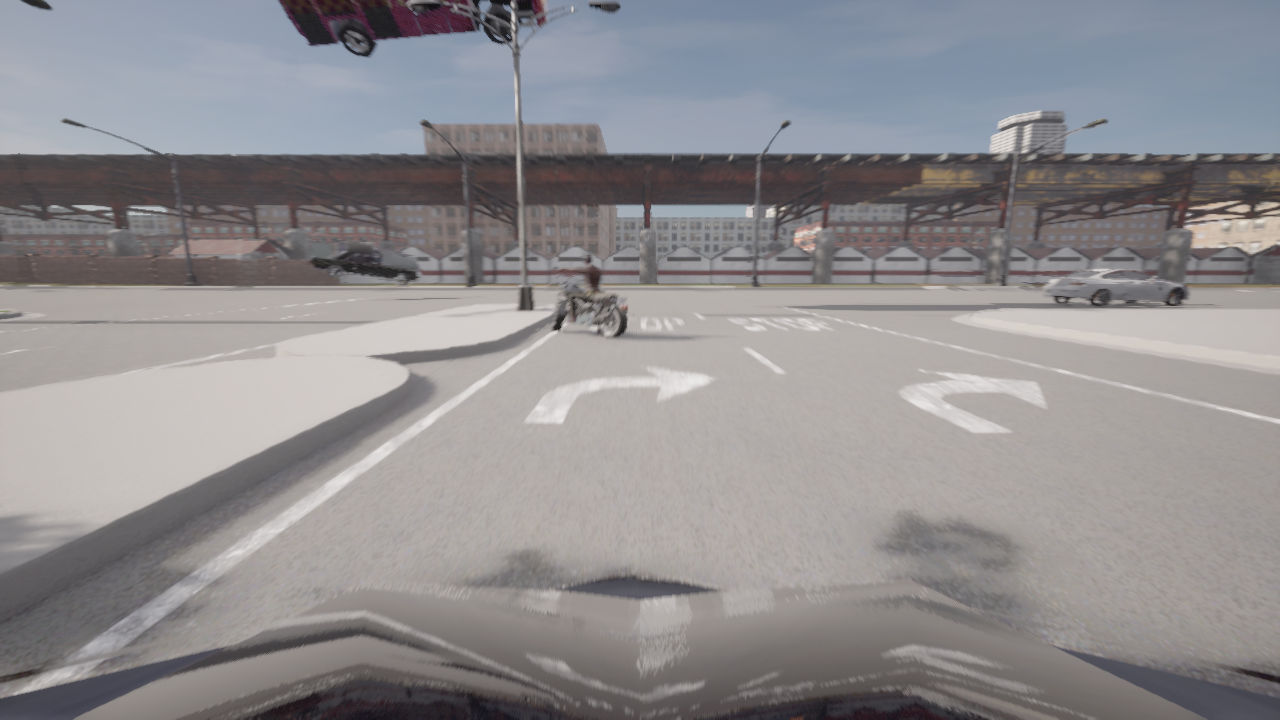cyclist: (0, 569, 1279, 719), (276, 0, 548, 57), (550, 265, 629, 338), (1044, 268, 1188, 305), (309, 240, 420, 285)
